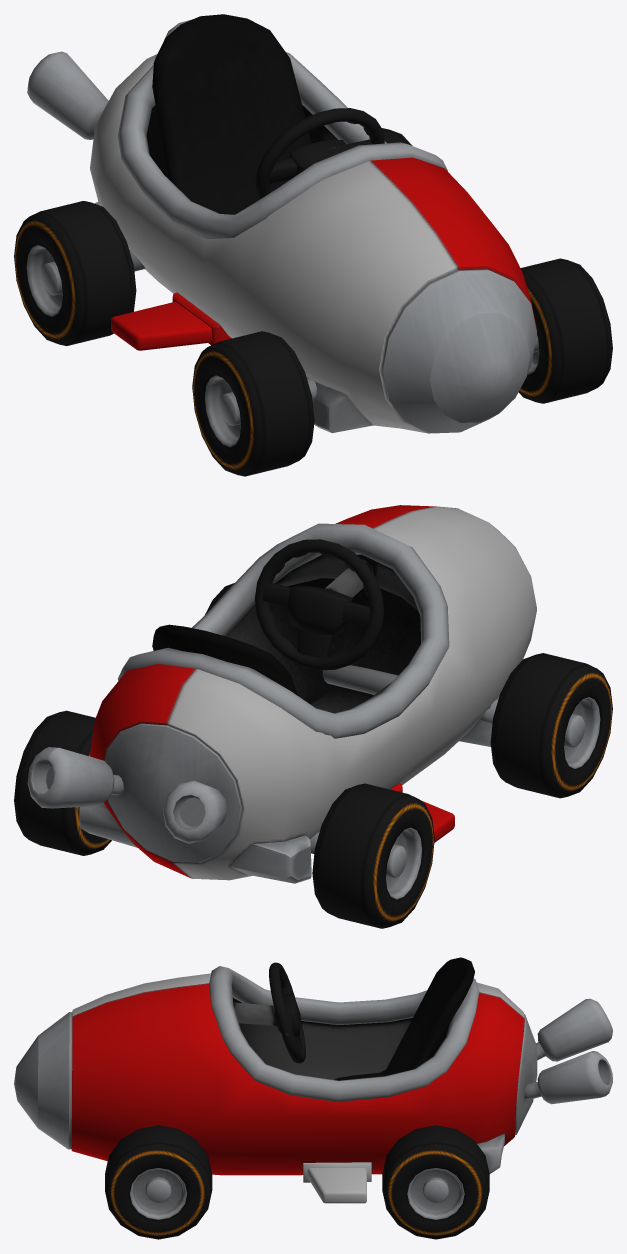
File: BaseRaceKart2.gltf
3 renders of one model, top to bottom at view 1: azimuth 30°, elevation 25°; view 2: azimuth 150°, elevation 25°; view 3: azimuth 270°, elevation 25°, orthographic. The views are drawn at different scales.
Parts seen in each view (by area): view 1: Body, wheel-front-right.003, wheel-back-right.003, wheel-front-left.003, SteeringWheel; view 2: Body, wheel-back-right.003, wheel-front-right.003, SteeringWheel, wheel-back-left.003, Underbody; view 3: Body, wheel-back-left.003, wheel-front-left.003, SteeringWheel.
Boxes of the visible parts, x1,y1,x2,y2 form: Body: (27, 14, 536, 433); wheel-front-right.003: (192, 331, 314, 476); wheel-back-right.003: (14, 201, 136, 345); wheel-front-left.003: (518, 258, 612, 403); SteeringWheel: (255, 108, 384, 198); Body: (27, 505, 536, 883); wheel-back-right.003: (312, 783, 434, 928); wheel-front-right.003: (490, 653, 612, 798); SteeringWheel: (255, 539, 384, 670); wheel-back-left.003: (14, 710, 111, 855); Underbody: (310, 665, 498, 853); Body: (14, 957, 612, 1203); wheel-back-left.003: (382, 1125, 489, 1239); wheel-front-left.003: (105, 1125, 212, 1239); SteeringWheel: (269, 962, 305, 1063).
Bounding box in the file's own units: 1.45 × 1.03 × 2.68.
1 material, 1 textured.
